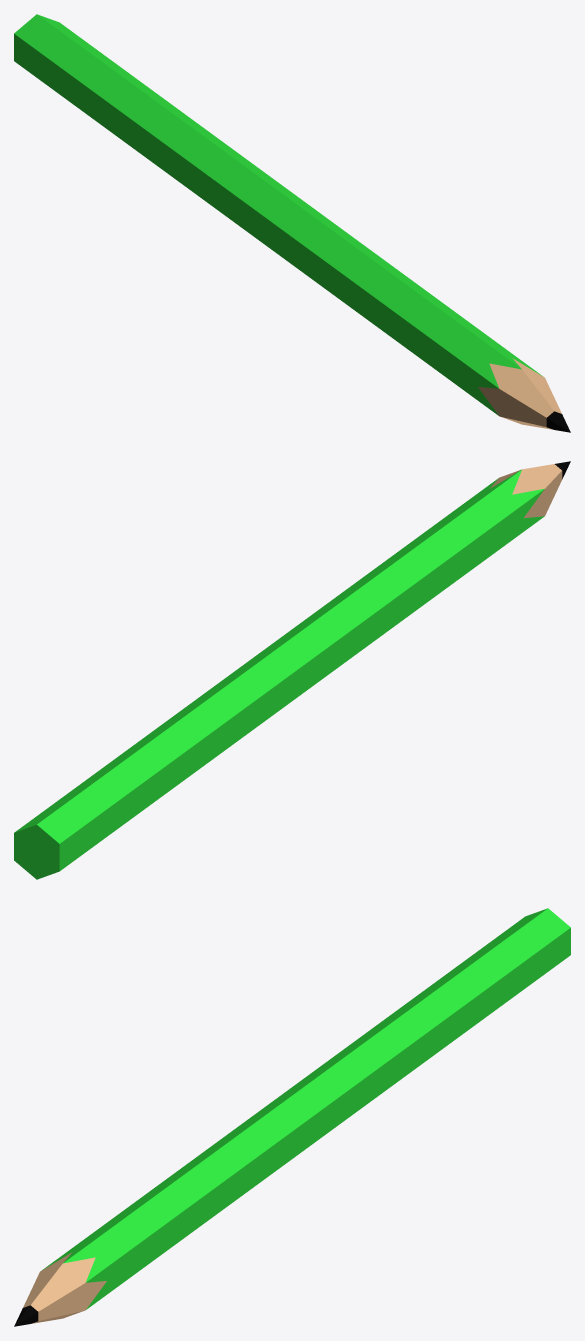
3 renders of one model, top to bottom at view 1: azimuth 30°, elevation 25°; view 2: azimuth 150°, elevation 25°; view 3: azimuth 330°, elevation 25°, orthographic.
Visible parts, largest first — view 1: 円柱; view 2: 円柱; view 3: 円柱.
Part boxes in pixels (x1,y1,x2,y2): 円柱: [14, 14, 570, 432]; 円柱: [14, 461, 570, 879]; 円柱: [14, 908, 570, 1326].
Bounding box in the file's own units: 0.5794 × 0.669 × 11.75.
